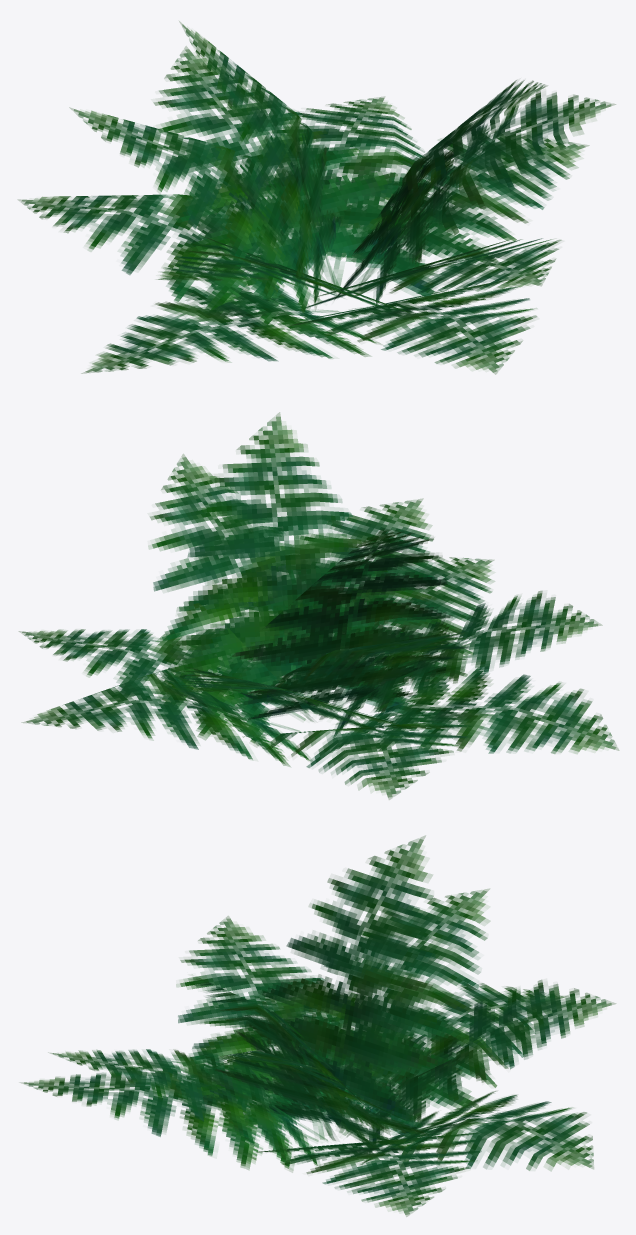
The model's file is fern-small.lod2.glb.
The picture shows the model from 3 angles, top to bottom: view 1: azimuth 30°, elevation 25°; view 2: azimuth 150°, elevation 25°; view 3: azimuth 270°, elevation 25°; orthographic projection. The views are drawn at different scales.
Parts seen in each view (by area): view 1: SM_Fern_01_Ferns_0; view 2: SM_Fern_01_Ferns_0; view 3: SM_Fern_01_Ferns_0.
Boxes of the visible parts, bbox=[...] form: SM_Fern_01_Ferns_0: bbox=[18, 21, 615, 374]; SM_Fern_01_Ferns_0: bbox=[19, 412, 618, 799]; SM_Fern_01_Ferns_0: bbox=[20, 835, 615, 1216].
Size of the model in its own units: 1.74 by 0.7965 by 1.68.
Materials: 1 (1 with a texture image).
